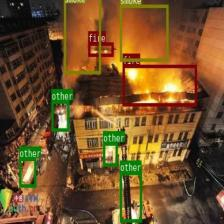fire: (122, 64, 196, 106), (88, 42, 113, 56)
smoke: (119, 4, 168, 61), (64, 0, 100, 73)
